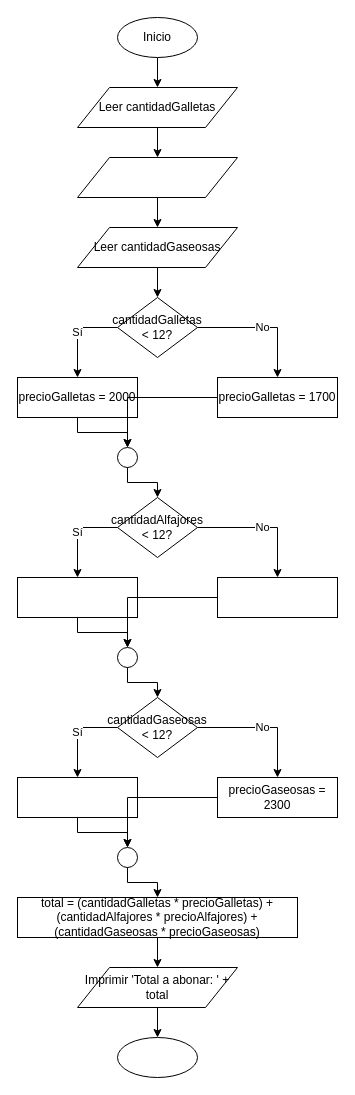
This 355x1095 diagram has some shape labels left out. The shapes that lost their labels are listed below. From the top down, each one's centre as x and y in pixels, then its label:
At point 157,177: "Leer cantidadAlfajores".
At point 77,597: "precioAlfajores = 1000".
At point 277,597: "precioAlfajores = 850".
At point 77,797: "precioGaseosas = 2500".
At point 157,1057: "Fin".
